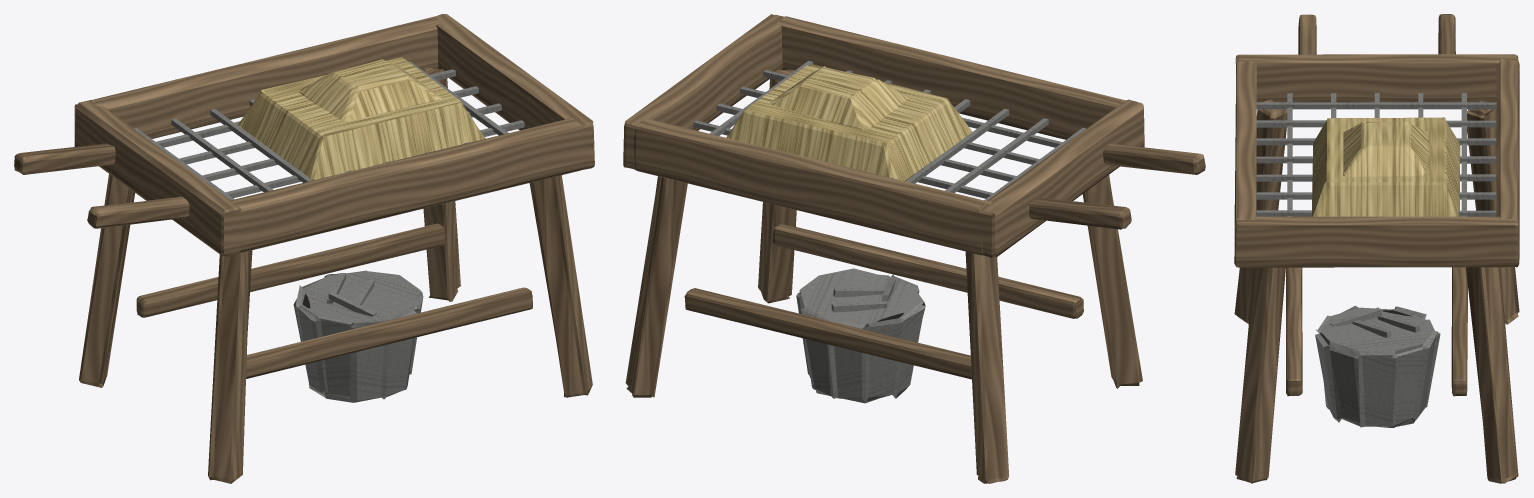
Rendered from hand_sieve_table.glb.
3 views of the same model, side by side, from view 1: azimuth 30°, elevation 25°; view 2: azimuth 150°, elevation 25°; view 3: azimuth 270°, elevation 25° (orthographic). The views are drawn at different scales.
Visible parts, largest first — view 1: HandSieveTable; view 2: HandSieveTable; view 3: HandSieveTable.
Boxes of the visible parts, x1,y1,x2,y2 form: HandSieveTable: (14, 14, 594, 483); HandSieveTable: (623, 14, 1205, 483); HandSieveTable: (1234, 14, 1519, 483).
Bounding box in the file's own units: 1.66 × 1.01 × 0.9162.
Materials: 4 (3 with a texture image).
